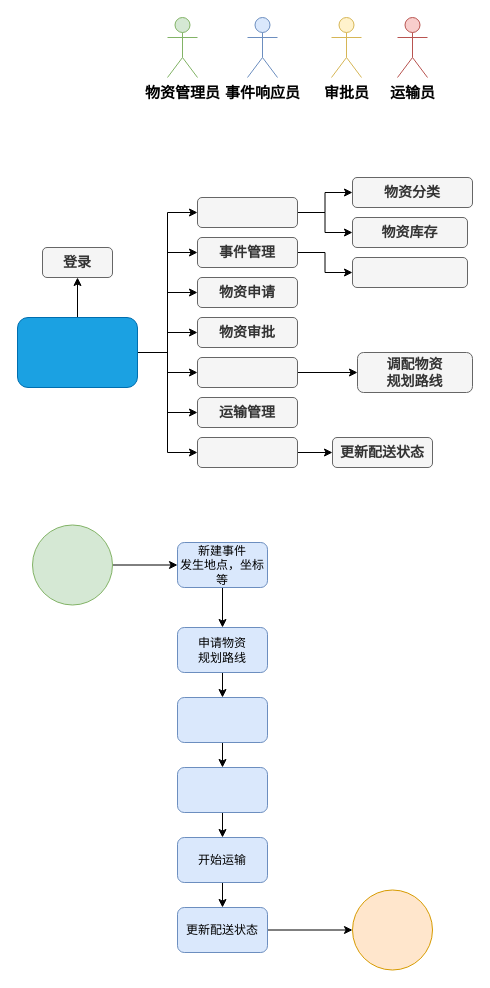
Image size: 490x988. Some labels were removed from this diagram. Each missing label, with the centre of its shape:
"事件详情" belongs at pixel 410 272.
"发生事件" belongs at pixel 72 564.
"提交审批" belongs at pixel 222 719.
"物资管理" belongs at pixel 247 212.
"疫情应急 物资保障 配送管理系统" belongs at pixel 77 352.
"通过审批" belongs at pixel 222 789.
"配送单" belongs at pixel 247 452.
"配送管理" belongs at pixel 247 372.
"配送结束" belongs at pixel 392 929.
